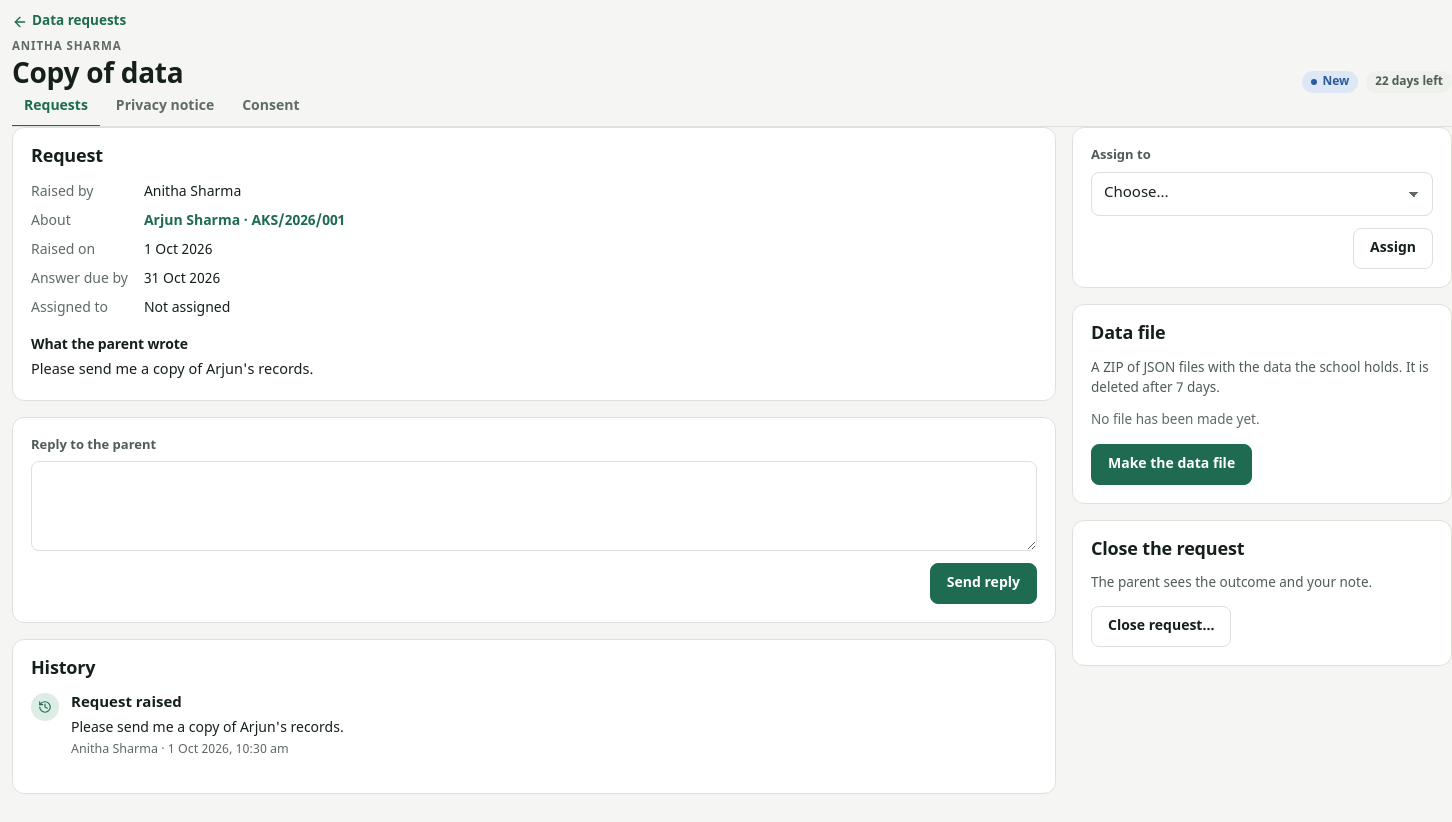
it: RequestDetailView › makes a data file for an access request and shows its expiry
Expected: the text "No file has been made yet." is shown, [1091, 412, 1260, 430]
Click the button "Make the data file": click(1172, 464) [1091, 444, 1252, 485]
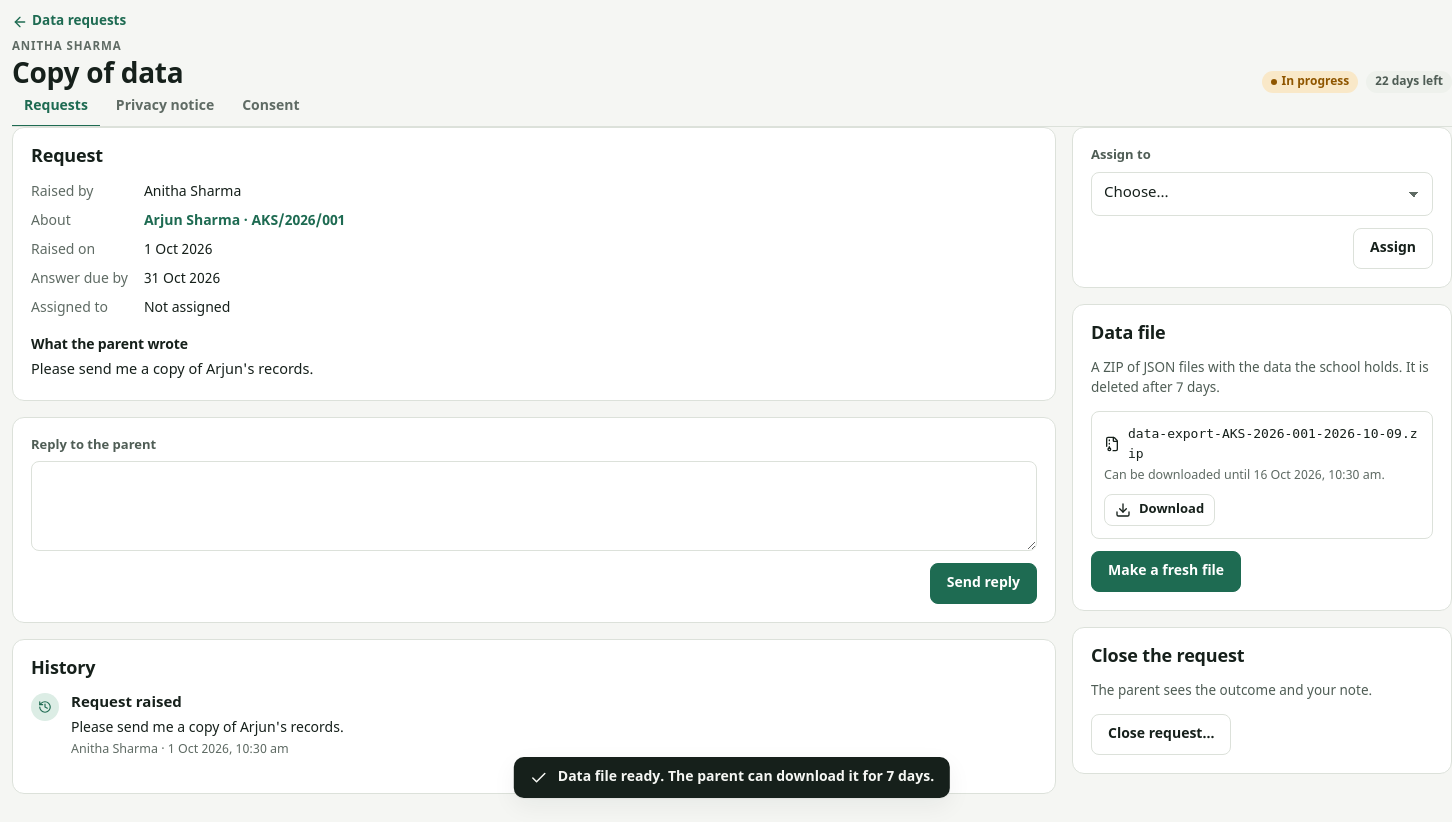
Expected: the text "data-export-AKS-2026-001-2026-10-09.zip" is shown, [1104, 424, 1420, 463]
Expected: the button "Make a fresh file" is shown, [1091, 551, 1241, 592]
